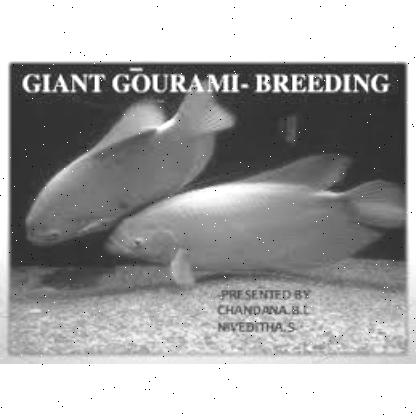gurame: (107, 162, 405, 286), (20, 102, 224, 238)
